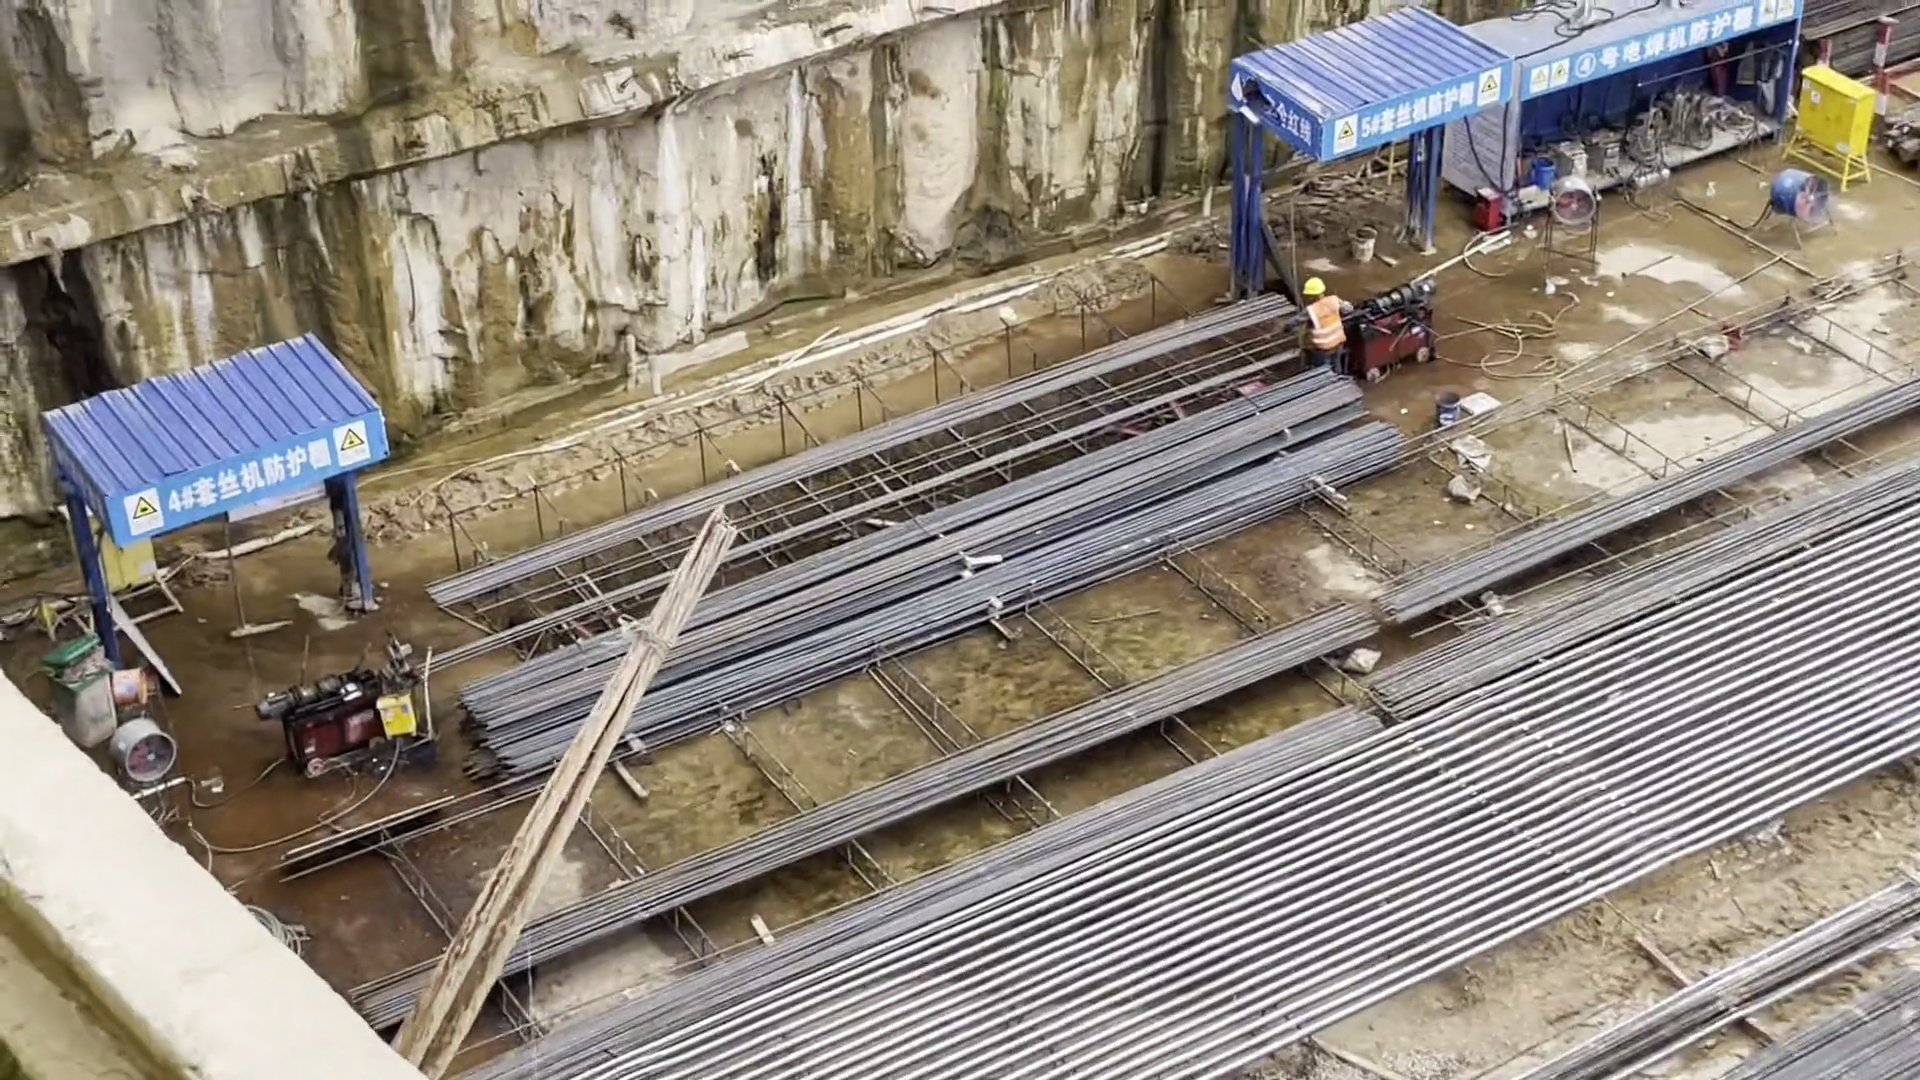ebox: (1793, 60, 1873, 189)
helmet: (1302, 277, 1323, 294)
person: (1285, 278, 1350, 373)
rebar: (425, 285, 1410, 776), (1513, 850, 1920, 1078)
slogan: (115, 409, 387, 549), (1521, 1, 1801, 106), (1322, 66, 1509, 161)
vest: (1300, 299, 1345, 350)
